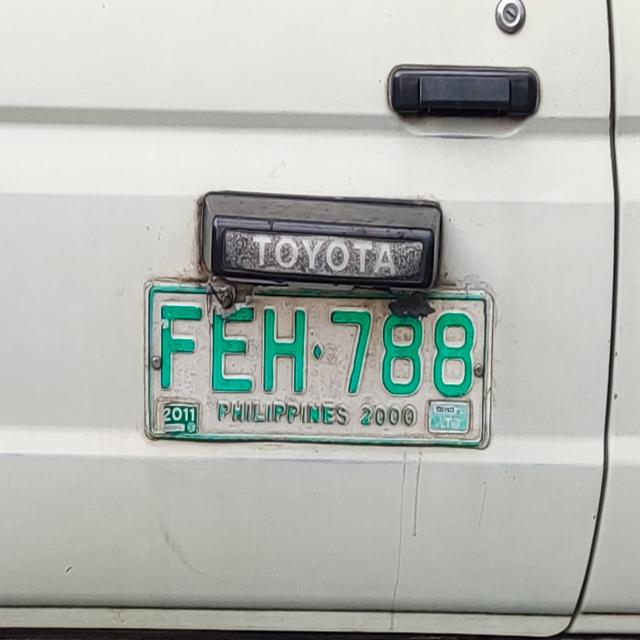plate: (142, 277, 496, 452)
